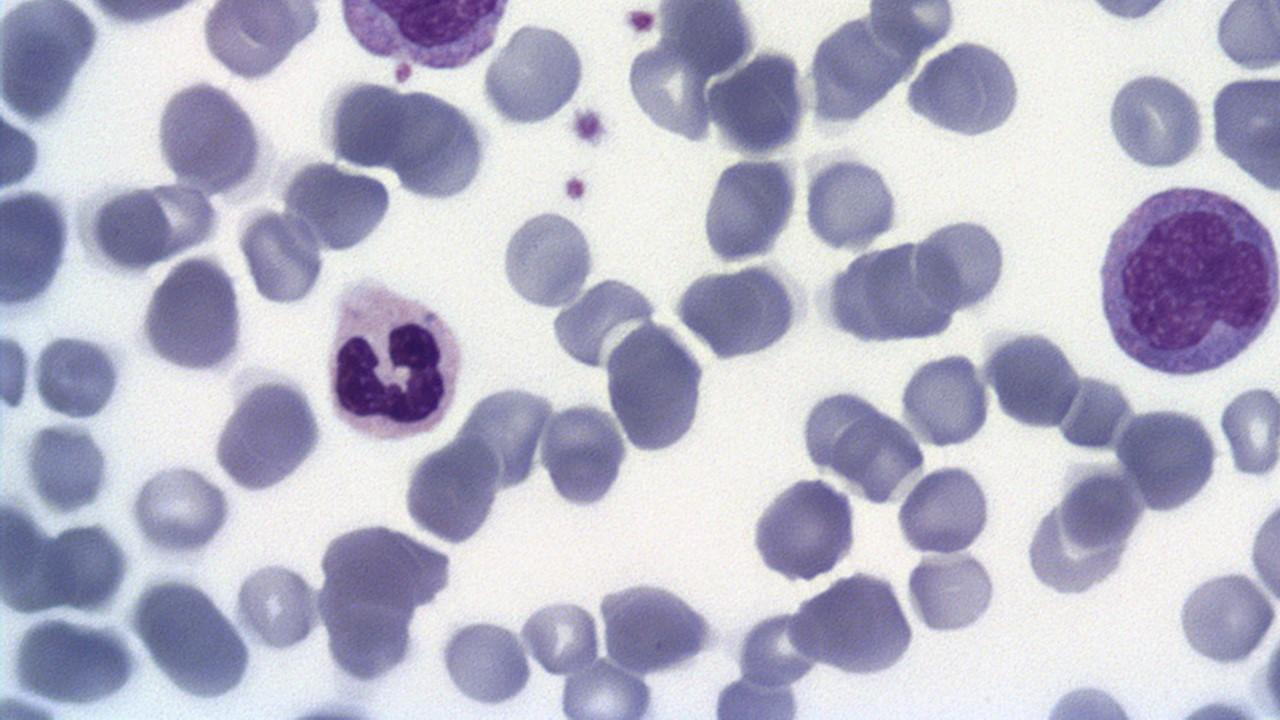Platelets: (566, 103, 612, 152), (559, 169, 595, 206), (621, 4, 660, 37)
RBC: (814, 234, 979, 349), (1018, 462, 1144, 603), (127, 573, 255, 703), (210, 366, 328, 497), (150, 76, 272, 202), (602, 318, 710, 460), (786, 566, 918, 682), (671, 259, 812, 365), (136, 249, 248, 380), (3, 613, 145, 709), (385, 82, 496, 203), (902, 37, 1029, 142), (0, 0, 105, 125), (746, 472, 860, 586), (479, 19, 590, 130), (1113, 402, 1221, 516), (400, 432, 506, 546), (697, 152, 802, 266), (452, 382, 556, 494), (1102, 64, 1208, 173), (1173, 564, 1279, 670), (981, 324, 1083, 433), (706, 53, 812, 157), (497, 203, 599, 311), (194, 0, 322, 84), (126, 459, 235, 556), (801, 149, 899, 256), (622, 30, 716, 141), (539, 396, 630, 510), (914, 211, 1012, 312), (436, 612, 537, 709), (896, 350, 994, 449), (0, 182, 74, 312), (894, 462, 994, 556), (1208, 66, 1280, 194), (238, 205, 326, 309), (34, 330, 133, 422), (20, 421, 117, 512), (902, 550, 1002, 636), (45, 518, 131, 618), (0, 500, 72, 619), (85, 181, 175, 274), (319, 79, 409, 171), (234, 556, 319, 653), (800, 384, 883, 476), (734, 606, 820, 689), (521, 594, 601, 680), (1057, 367, 1131, 456), (142, 178, 221, 256), (554, 658, 658, 716), (862, 0, 958, 57), (708, 668, 805, 720), (1248, 477, 1280, 630), (1213, 0, 1277, 74), (0, 99, 45, 195), (283, 691, 383, 718), (1077, 0, 1179, 26), (0, 327, 30, 412)
WBC: (1086, 174, 1280, 385), (322, 272, 469, 447), (332, 1, 517, 78)
